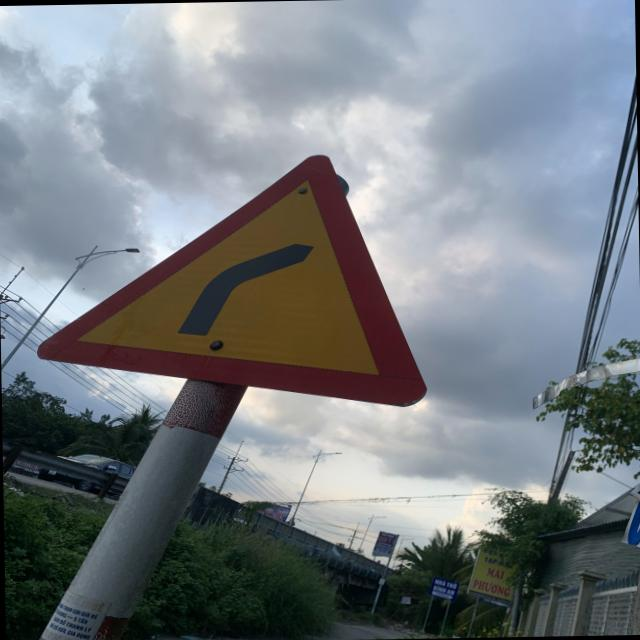Duong_Nguoi_Di_Bo_Cat_Ngang: (39, 154, 426, 410)
